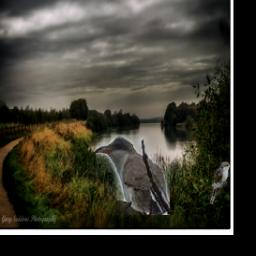Cuckoo: (97, 135, 171, 215), (210, 162, 232, 205)
